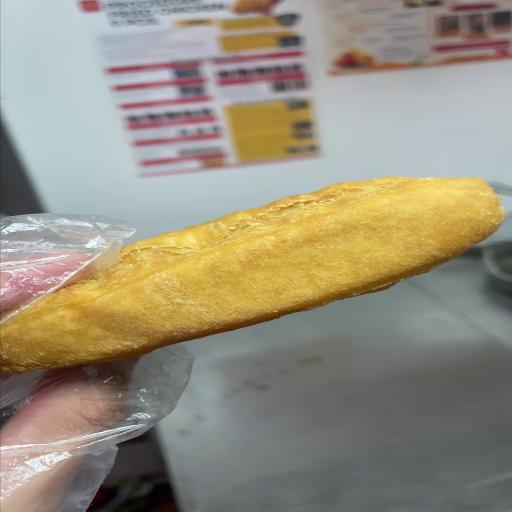brand_golden_good: (1, 177, 503, 373)
